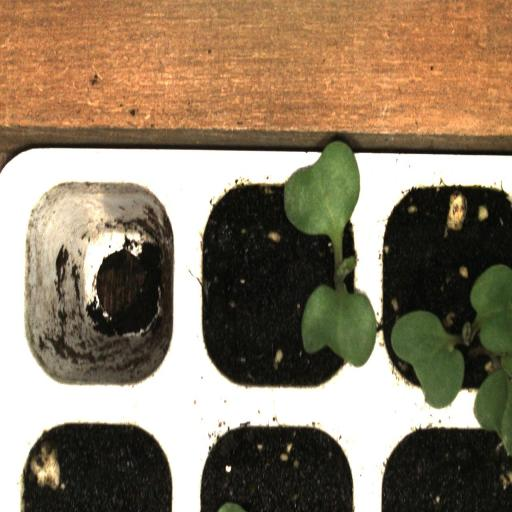Folha: (470, 264, 512, 457), (390, 310, 465, 409)
Germinacao: (188, 154, 372, 410), (16, 156, 188, 400)
